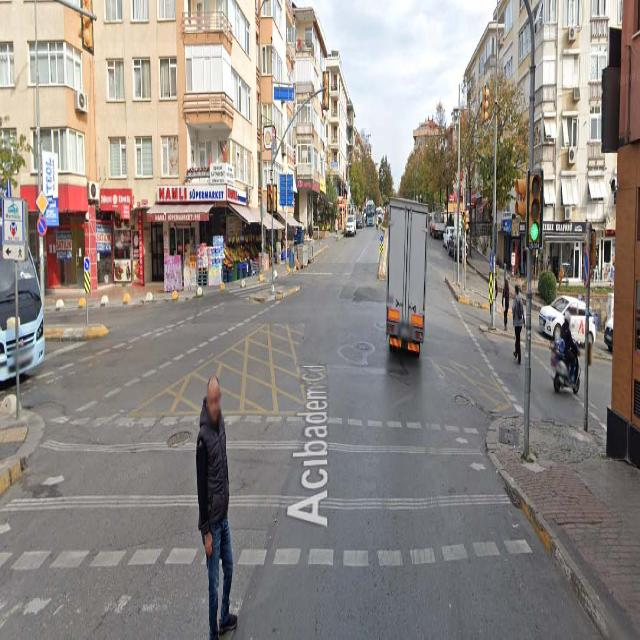parkyasak: (37, 215, 46, 238)
yesil: (529, 168, 540, 249)
